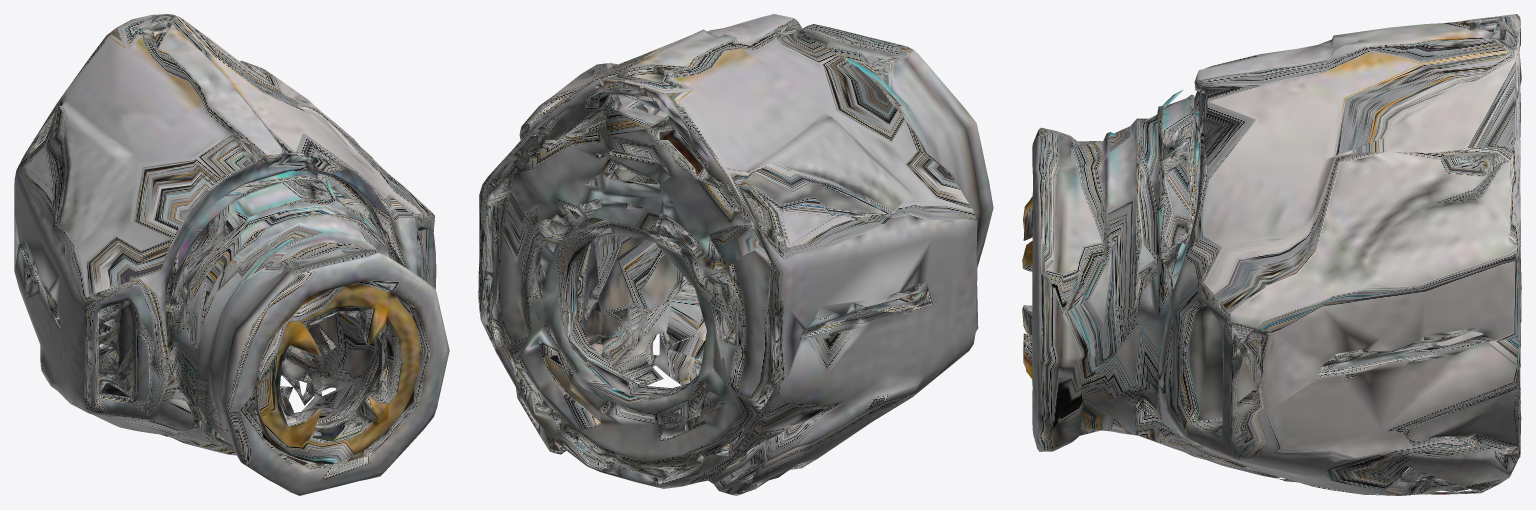
3 views of the same model, side by side, from view 1: azimuth 30°, elevation 25°; view 2: azimuth 150°, elevation 25°; view 3: azimuth 270°, elevation 25° (orthographic). The views are drawn at different scales.
Size of the model in its own units: 1 by 0.9667 by 1.
Materials: 1 (1 with a texture image).
